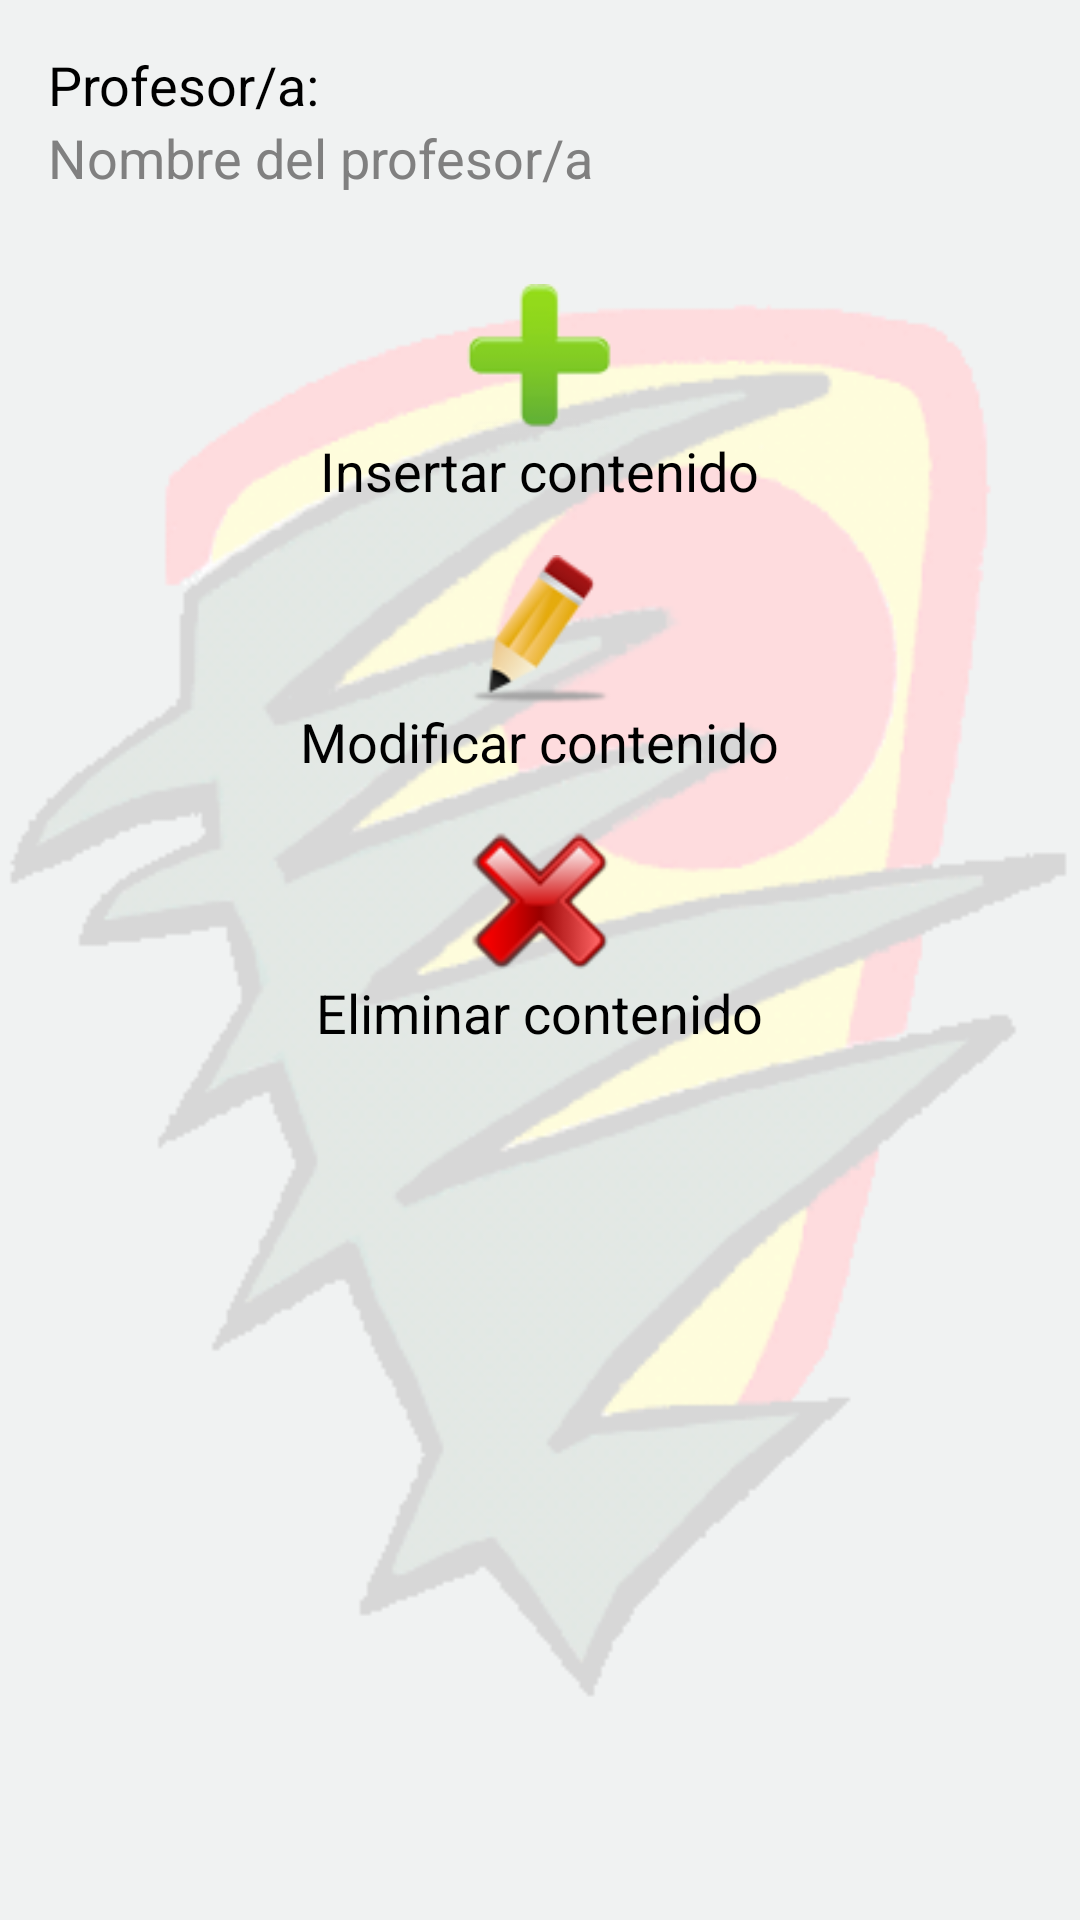

Screen size 1080 × 1920. Icon name, then its center in pixels as (x=x, y=y):
add: (x=540, y=359)
delete: (x=540, y=901)
